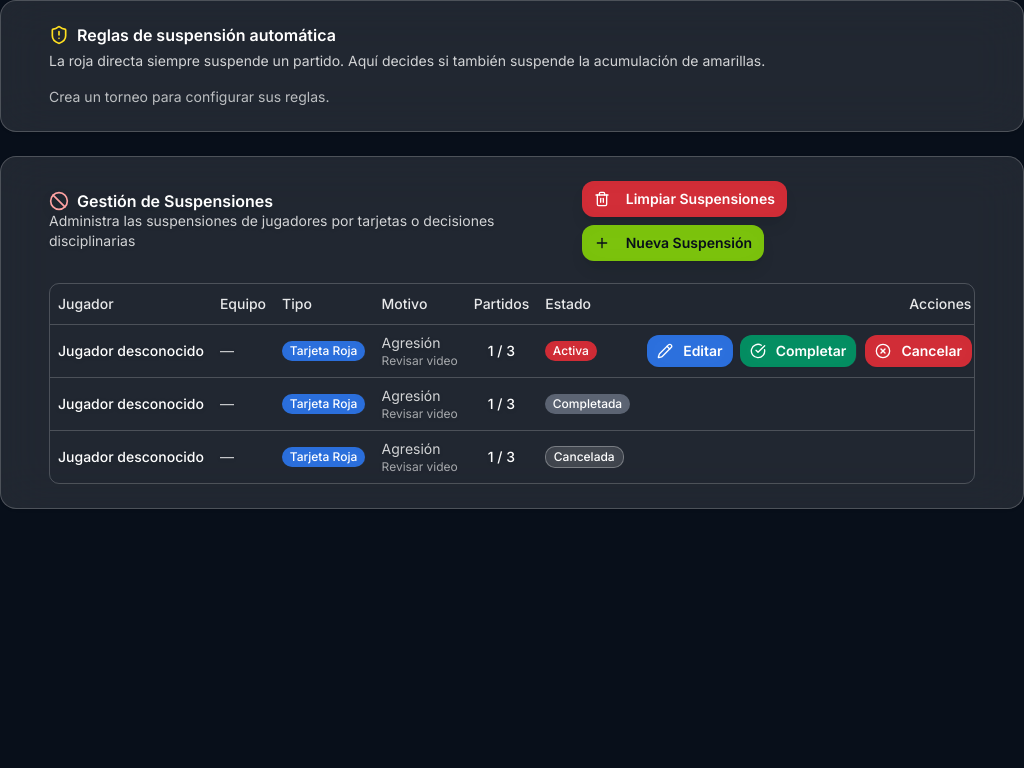
Test: Clear suspensions › lists what is lost, sends nothing on cancel and deletes after confirming
The image size is (1024, 768).
Step 1. Click the button "Limpiar Suspensiones" → (684, 199), box [582, 181, 787, 217]
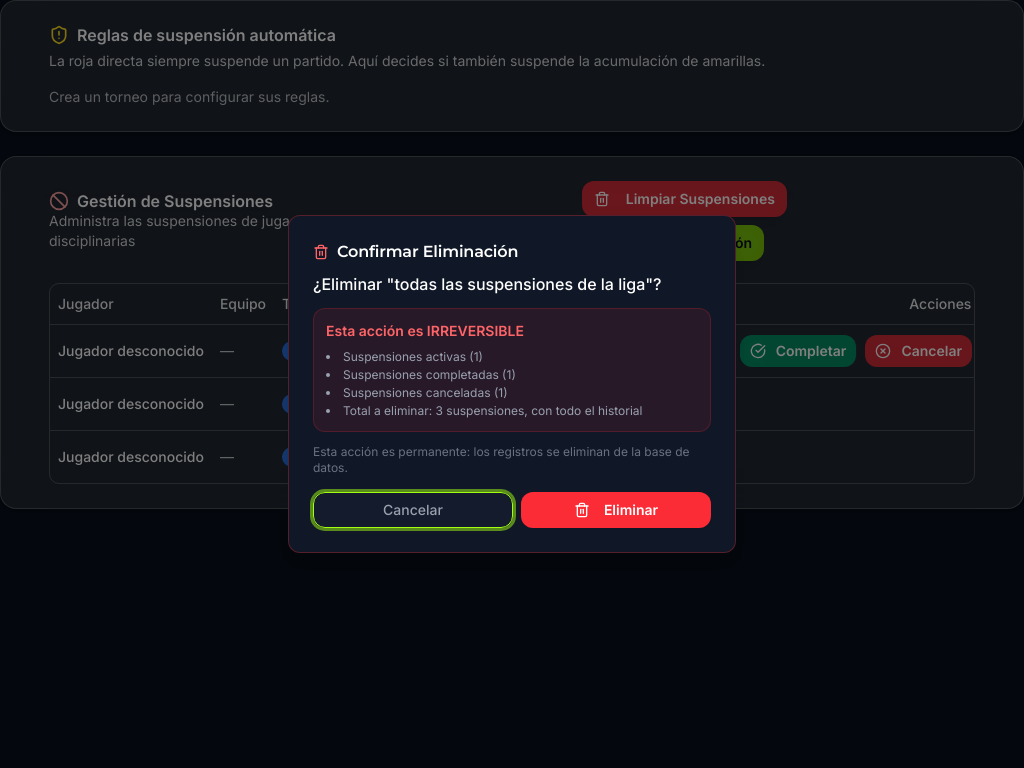
Expected: the list item "Suspensiones activas (1)" is shown, [343, 349, 483, 364]
Expected: the list item "Total a eliminar: 3 suspensiones, con todo el historial" is shown, [343, 403, 642, 418]
Step 2. Click the button "Cancelar" → (413, 510), box [313, 492, 513, 528]
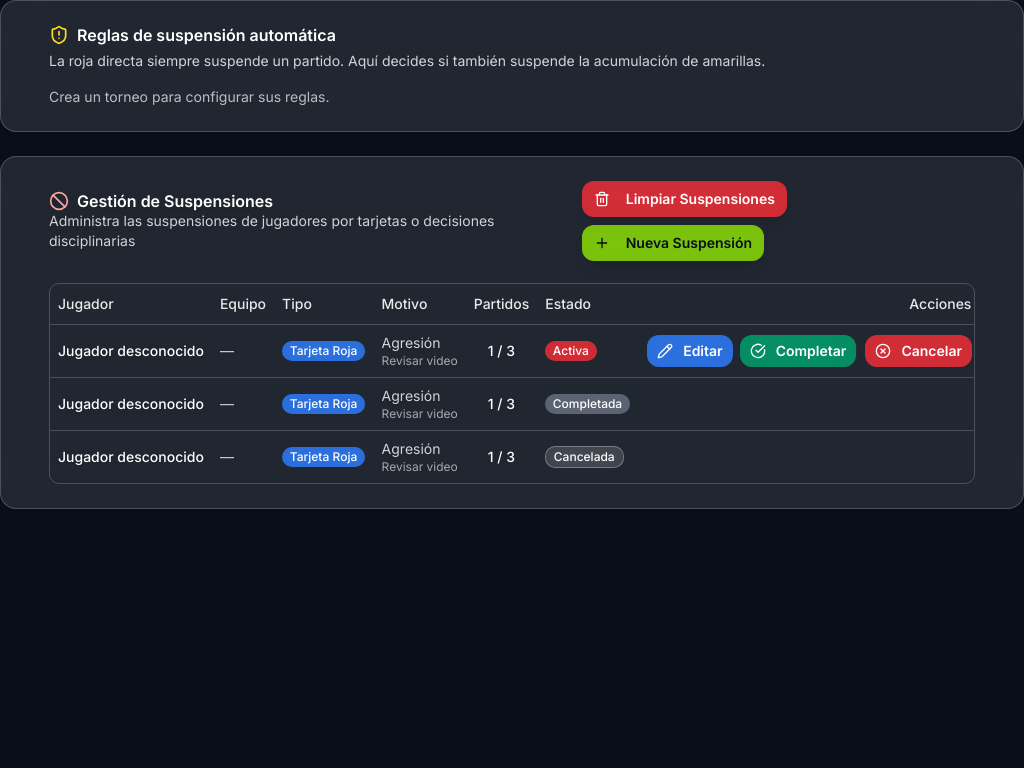
Step 3. Click the button "Limpiar Suspensiones" → (684, 199), box [582, 181, 787, 217]
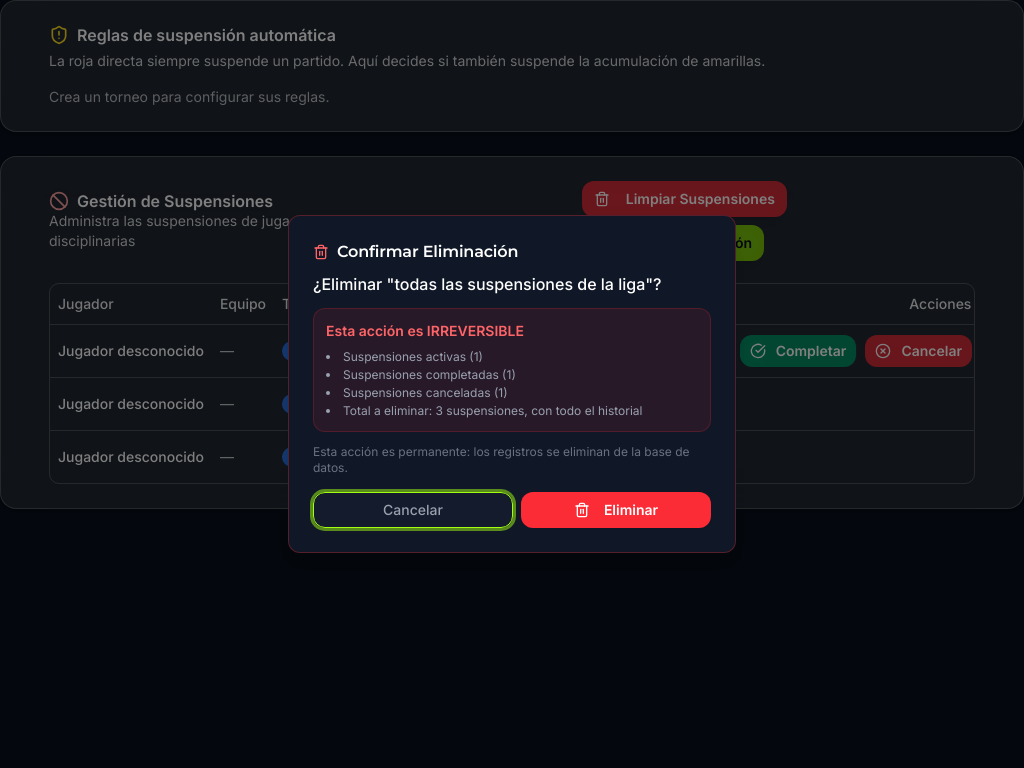
Step 4. Click the button "Eliminar" → (616, 510), box [521, 492, 711, 528]
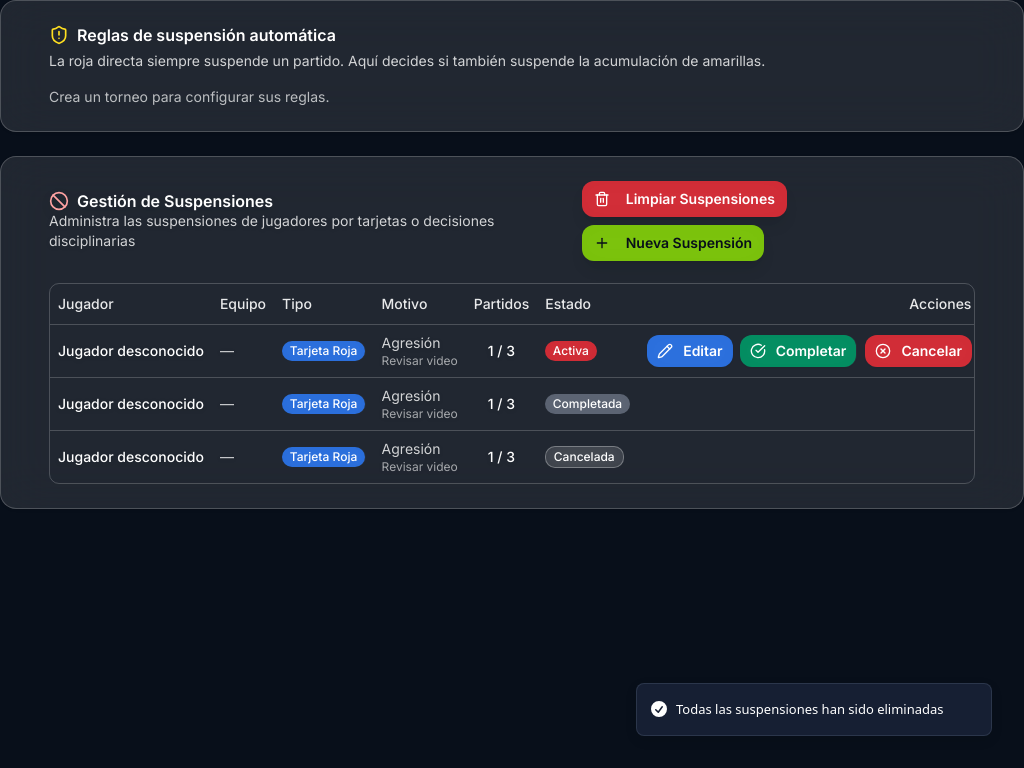
Expected: the text "Todas las suspensiones han sido eliminadas" is shown, [676, 700, 944, 719]
